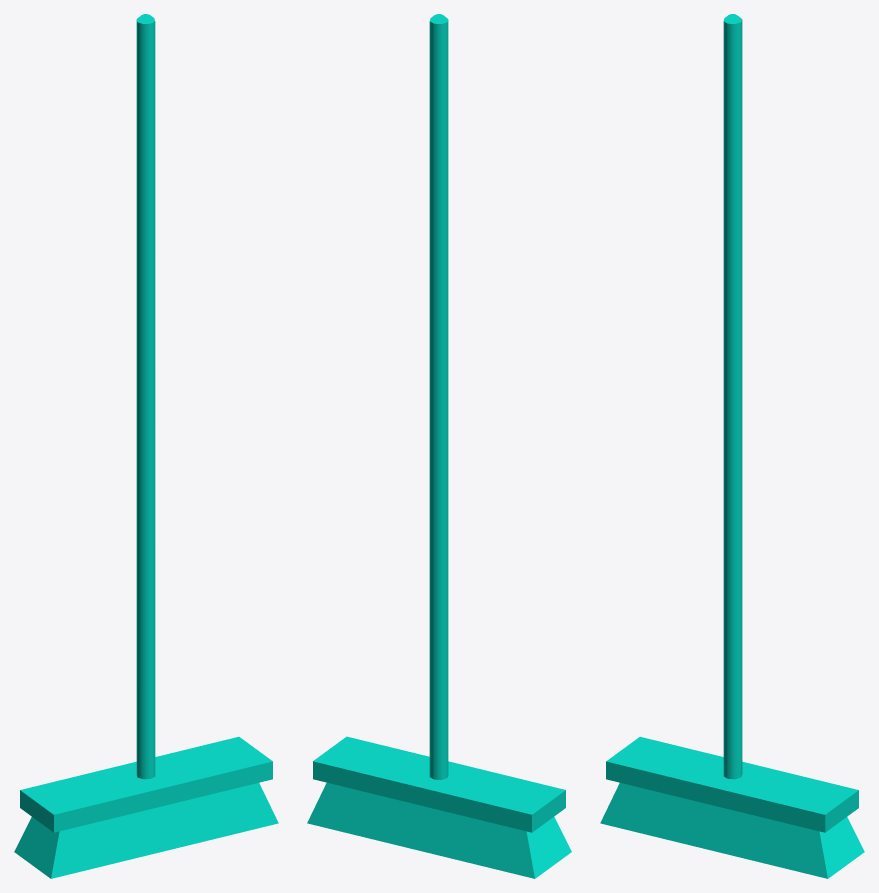
The model's file is bathroom_Broom.fbx.
3 views of the same model, side by side, from view 1: azimuth 30°, elevation 25°; view 2: azimuth 150°, elevation 25°; view 3: azimuth 330°, elevation 25° (orthographic).
Parts seen in each view (by area): view 1: bathroom_broom; view 2: bathroom_broom; view 3: bathroom_broom.
Part boxes in pixels (x1,y1,x2,y2): bathroom_broom: (14, 14, 278, 878); bathroom_broom: (307, 14, 571, 878); bathroom_broom: (600, 14, 864, 878).
Bounding box in the file's own units: 2 × 6.88 × 0.56.
